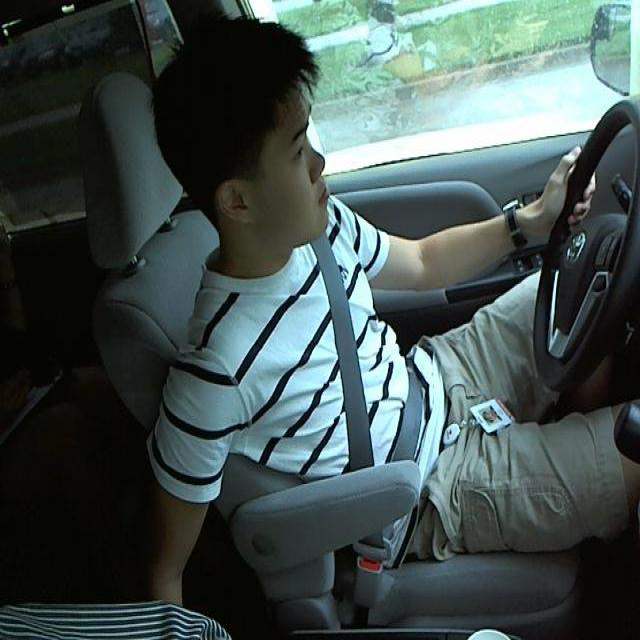seatbelt: (309, 236, 434, 471)
